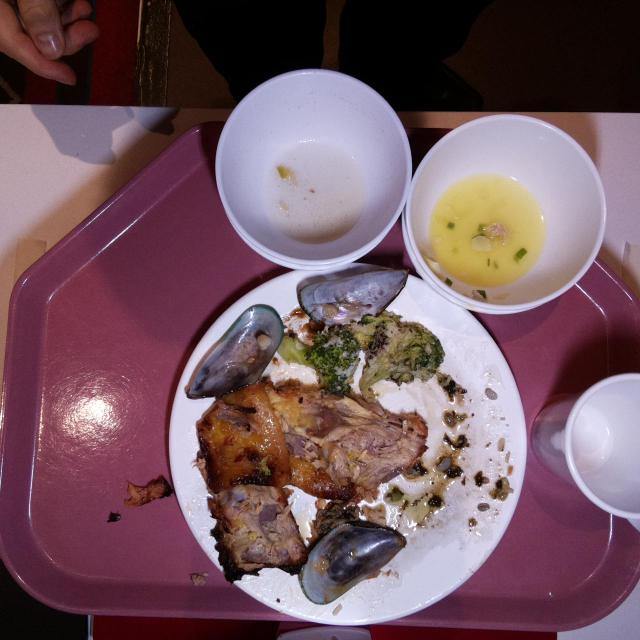Bone: (300, 386, 430, 504), (206, 495, 312, 583), (121, 474, 172, 508)
Meat: (194, 379, 298, 488)
Mussel-shell: (183, 303, 285, 402), (300, 515, 408, 607), (296, 265, 412, 323)
Vegetable: (358, 320, 446, 390), (307, 325, 357, 393)
